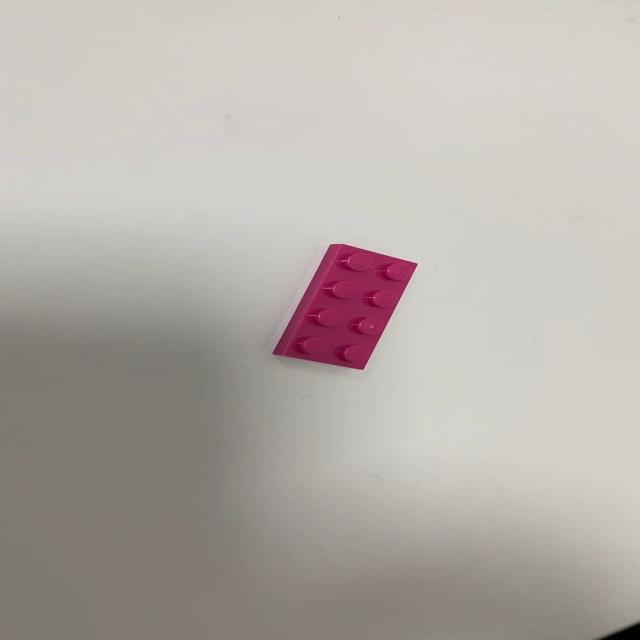C4x2x0: (271, 242, 418, 370)
